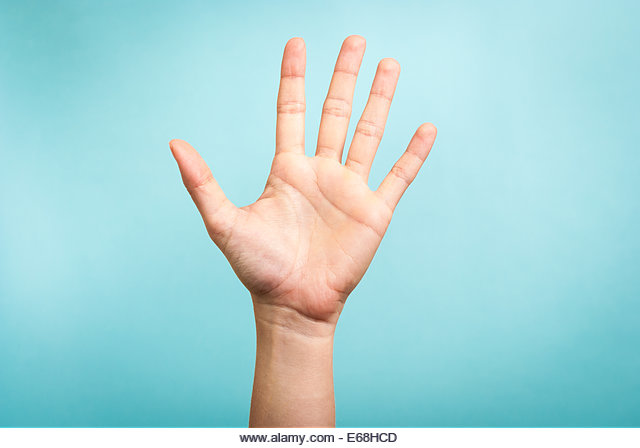non-diseased: (167, 32, 448, 316)
